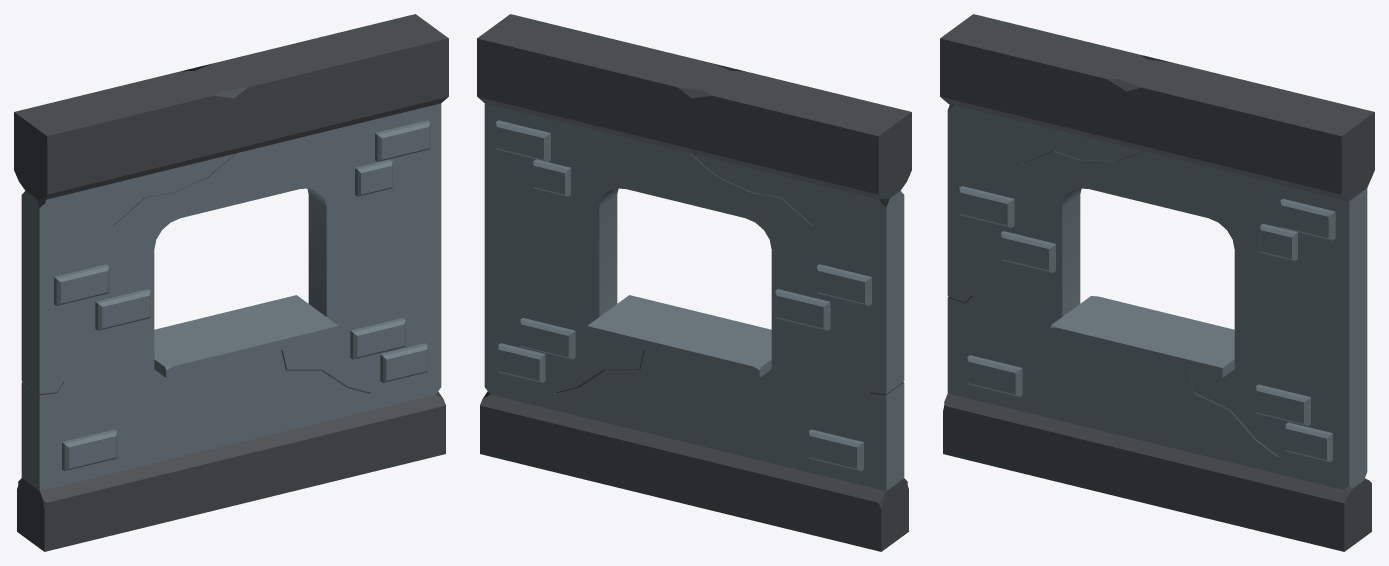
The model's file is wall_1_2.obj.
3 views of the same model, side by side, from view 1: azimuth 30°, elevation 25°; view 2: azimuth 150°, elevation 25°; view 3: azimuth 330°, elevation 25° (orthographic).
Visible parts, largest first — view 1: wall_1_2; view 2: wall_1_2; view 3: wall_1_2.
Part boxes in pixels (left/top/right/bottom): wall_1_2: left=14, top=14, right=448, bottom=551; wall_1_2: left=477, top=14, right=911, bottom=551; wall_1_2: left=940, top=14, right=1374, bottom=551.
Size of the model in its own units: 1.54 by 1.53 by 0.2805.
